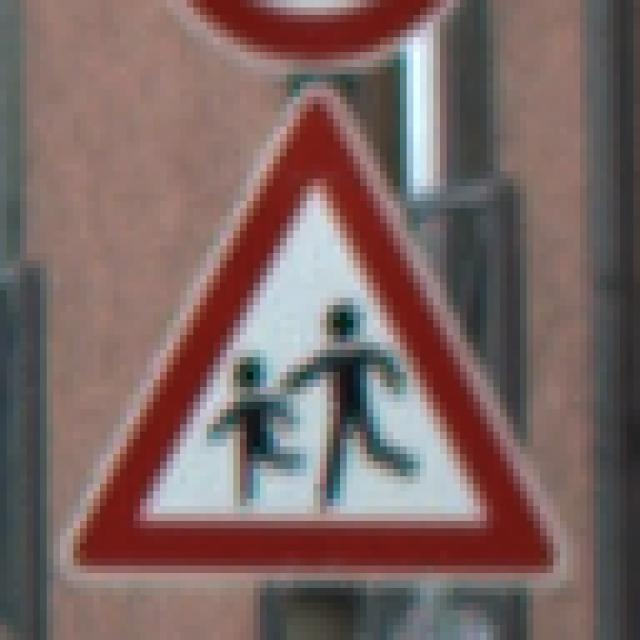school ahead: (61, 81, 562, 583)
